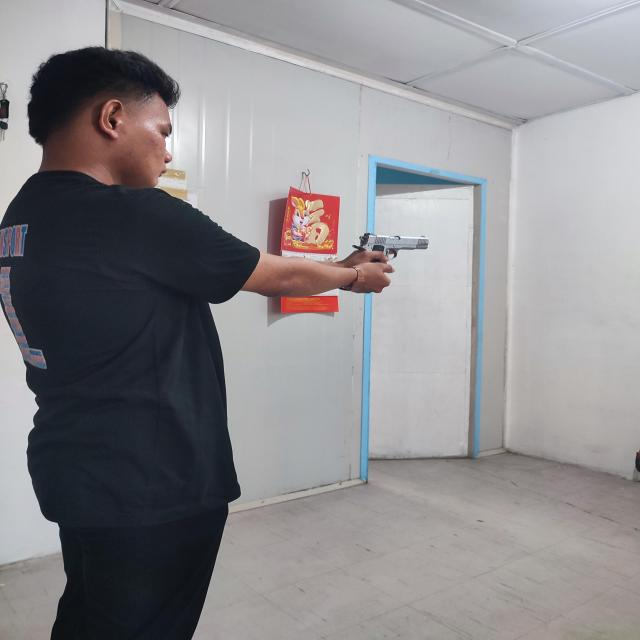pistol: (352, 233, 428, 260)
